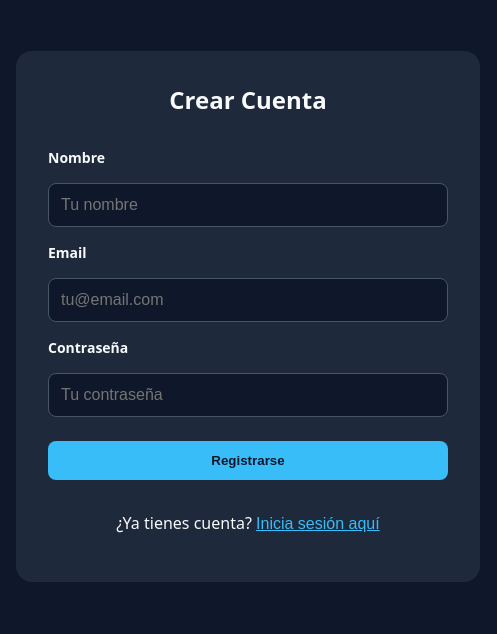
Test: Register › muestra error cuando el email ya está registrado
Type "Test User" into the field labelled "Nombre" at (248, 204), box [48,182,448,226]
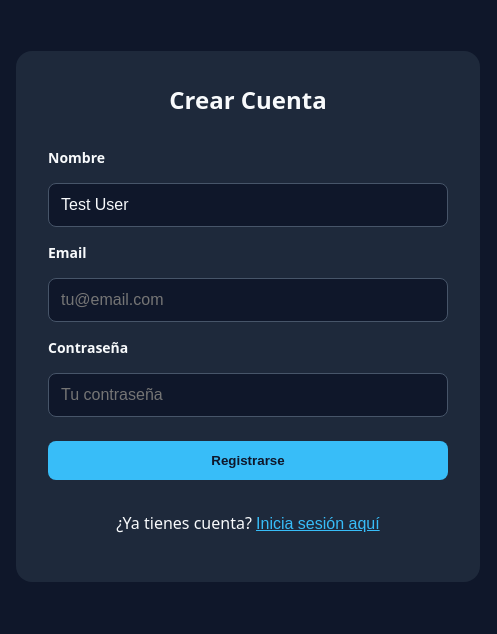
Type "existing@test.com" into the field labelled "Email" at (248, 300), box [48,278,448,322]
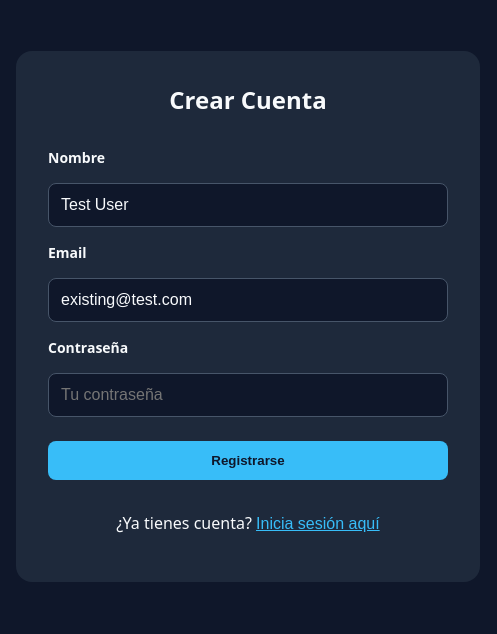
Type "password123" into the password field labelled "Contraseña" at (248, 394), box [48,372,448,416]
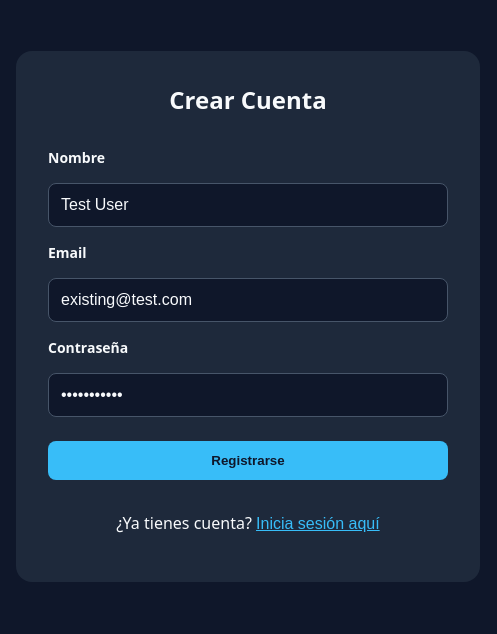
Submit the form from the button "Registrarse", box [48,440,448,480]
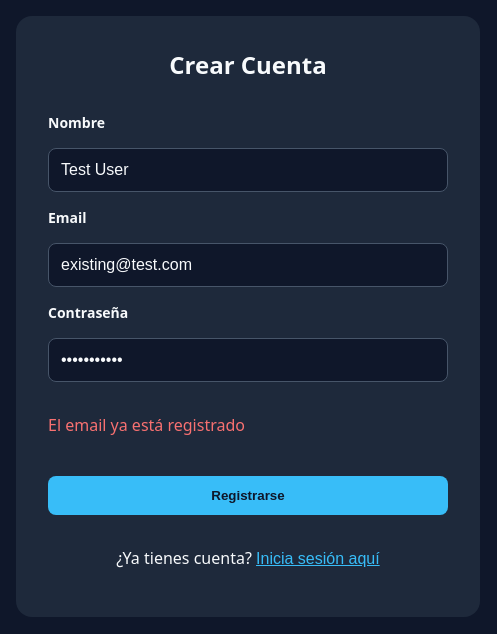
Check: the text "El email ya está registrado" is shown, box [48,414,245,436]
